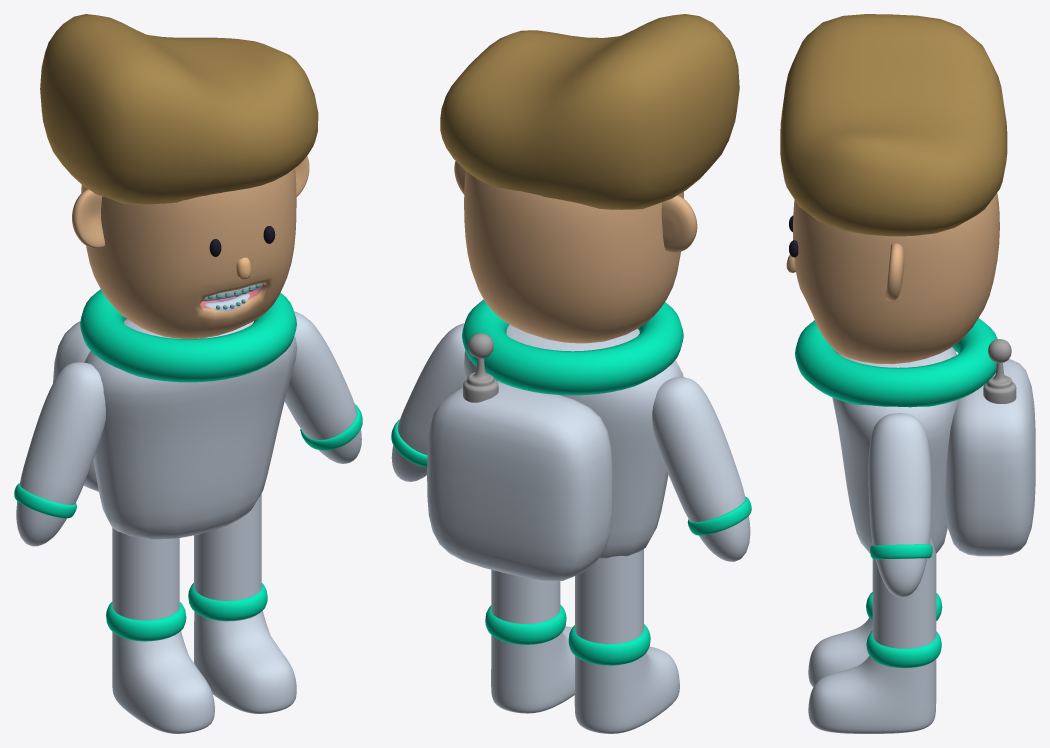
File: gabo.glb
3 views of the same model, side by side, from view 1: azimuth 30°, elevation 25°; view 2: azimuth 150°, elevation 25°; view 3: azimuth 270°, elevation 25° (orthographic). The views are drawn at different scales.
Parts seen in each view (by area): view 1: Cube.055, Cube.042, hlava.002, Cube.044, Cube.043, Torus.005, Cube.050, Cube.047, Cylinder.018, Cube.046, Cube.045, Cube.051 (+2 smaller); view 2: Cube.055, Cube.051, hlava.002, Cube.044, Cube.042, Torus.005, Cube.050, Cube.043, Cube.047, Cylinder.018, Cube.046, Cube.045 (+3 smaller); view 3: Cube.055, hlava.002, Cube.051, Cube.043, Torus.005, Cube.047, Cube.042, Cube.044, Cube.045, Cylinder.013, Cube.048, Cylinder.018.
Boxes of the visible parts, box(x1,y1,x2,y2) form: Cube.055: box(40, 14, 318, 204); Cube.042: box(84, 319, 297, 539); hlava.002: box(81, 168, 296, 339); Cube.044: box(112, 528, 214, 733); Cube.043: box(194, 494, 296, 713); Torus.005: box(80, 289, 296, 382); Cube.050: box(16, 362, 105, 546); Cube.047: box(284, 311, 361, 463); Cylinder.018: box(72, 156, 309, 248); Cube.046: box(106, 602, 186, 641); Cube.045: box(188, 583, 267, 620); Cube.051: box(53, 321, 98, 491); Cube.055: box(440, 14, 739, 209); Cube.051: box(427, 381, 612, 580); hlava.002: box(464, 171, 683, 343); Cube.044: box(574, 549, 679, 733); Cube.042: box(464, 325, 683, 558); Torus.005: box(462, 299, 683, 395); Cube.050: box(652, 377, 750, 561); Cube.043: box(491, 570, 574, 713); Cube.047: box(391, 323, 465, 481); Cylinder.018: box(454, 161, 697, 252); Cube.046: box(568, 624, 650, 665); Cube.045: box(485, 604, 566, 644); Cube.055: box(780, 14, 1007, 236); hlava.002: box(793, 193, 999, 364); Cube.051: box(945, 359, 1035, 556); Cube.043: box(808, 538, 936, 733); Torus.005: box(795, 318, 997, 407); Cube.047: box(868, 413, 931, 597); Cube.042: box(832, 347, 958, 553); Cube.044: box(808, 618, 872, 687); Cube.045: box(866, 631, 941, 667); Cylinder.013: box(983, 339, 1016, 403); Cube.048: box(870, 544, 932, 559); Cylinder.018: box(885, 243, 904, 300).
Size of the model in its own units: 1.34 by 2.55 by 0.9143.
